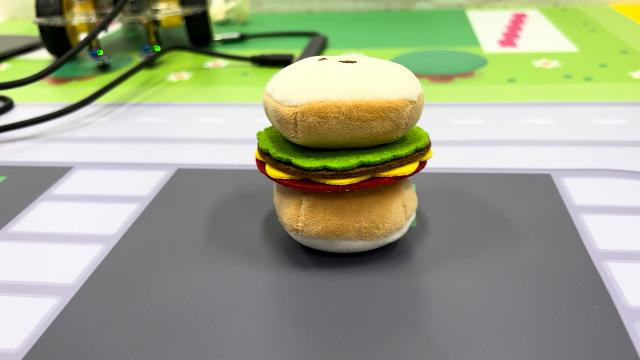sandwich: (253, 51, 435, 255)
